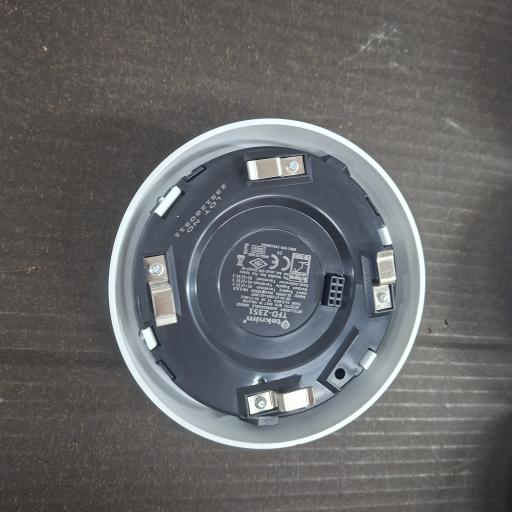yaysiz: (135, 244, 180, 330), (234, 374, 304, 424), (360, 250, 395, 318), (246, 154, 308, 182)
